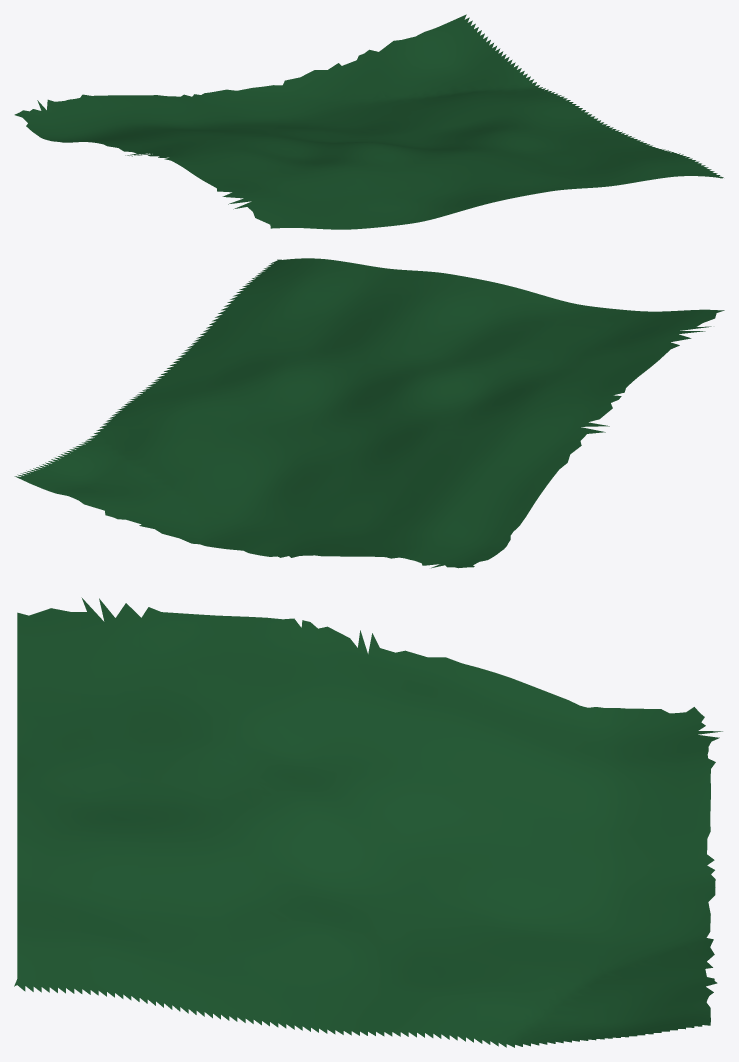
File: payo_land_xm4_y3.glb
The picture shows the model from 3 angles, top to bottom: view 1: azimuth 30°, elevation 25°; view 2: azimuth 150°, elevation 25°; view 3: azimuth 270°, elevation 25°; orthographic projection. The views are drawn at different scales.
Visible parts, largest first — view 1: payo_land_xm4_y3; view 2: payo_land_xm4_y3; view 3: payo_land_xm4_y3.
Boxes of the visible parts, <box> form: payo_land_xm4_y3: <box>14,14,723,229</box>; payo_land_xm4_y3: <box>14,258,724,568</box>; payo_land_xm4_y3: <box>14,597,722,1047</box>.
Bounding box in the file's own units: 266 × 65.49 × 261.
